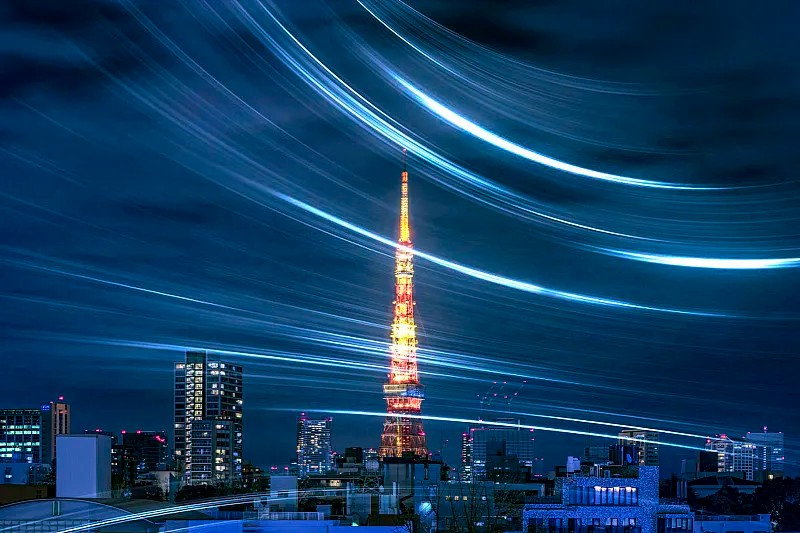Tokyo: (377, 148, 428, 462)
